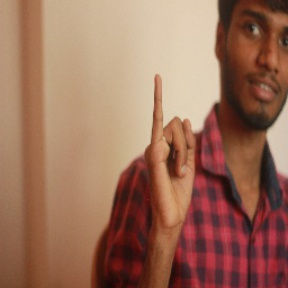I: (142, 74, 201, 225)
